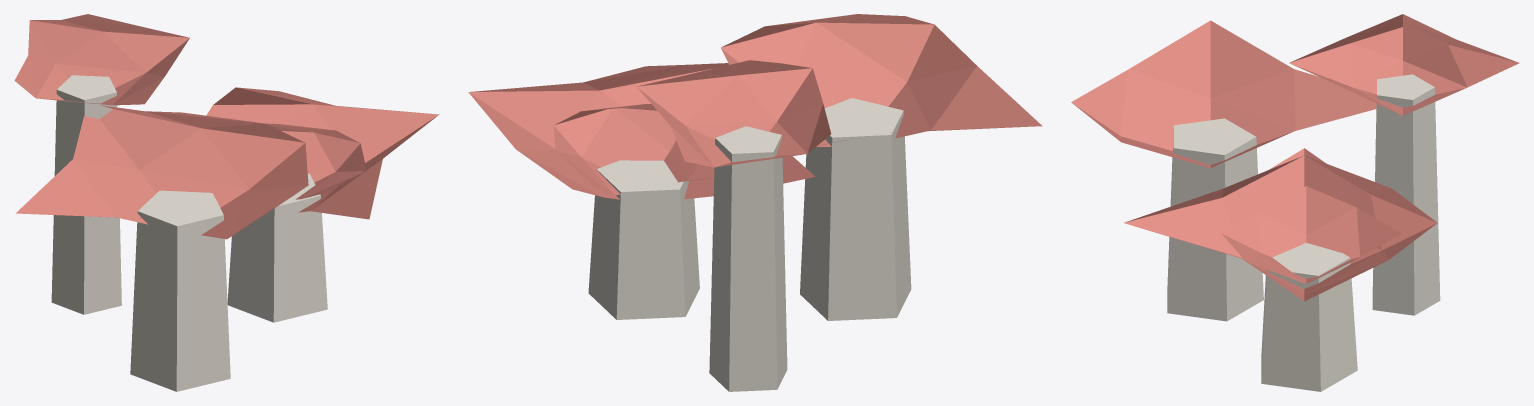
Rendered from mushroom_v46.glb.
The picture shows the model from 3 angles, left to right: view 1: azimuth 30°, elevation 25°; view 2: azimuth 150°, elevation 25°; view 3: azimuth 270°, elevation 25°; orthographic projection. The views are drawn at different scales.
Visible parts, largest first — view 1: lod0; view 2: lod0; view 3: lod0.
Boxes of the visible parts, x1=… form: lod0: x1=14, y1=14, x2=439, y2=391; lod0: x1=468, y1=14, x2=1042, y2=391; lod0: x1=1071, y1=14, x2=1519, y2=391.
Size of what is drawn, in the model's own units: 0.7885 by 0.4566 by 0.648.
